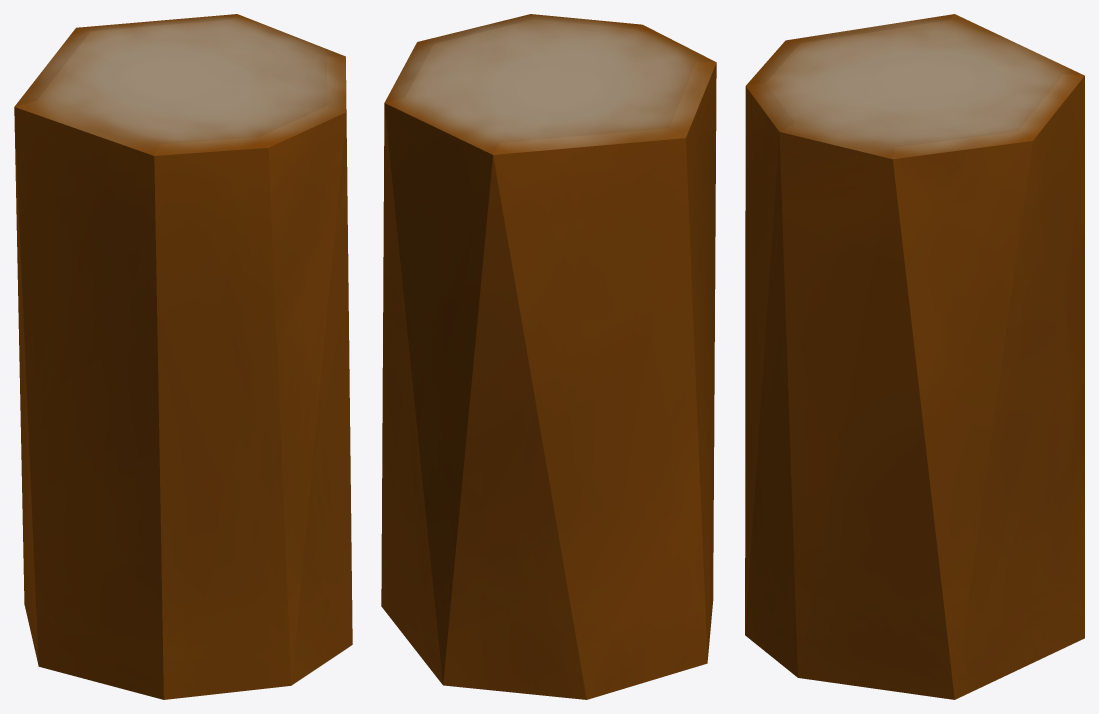
The model's file is Log_01.fbx.
The picture shows the model from 3 angles, left to right: view 1: azimuth 30°, elevation 25°; view 2: azimuth 150°, elevation 25°; view 3: azimuth 270°, elevation 25°; orthographic projection.
Parts seen in each view (by area): view 1: Log_01; view 2: Log_01; view 3: Log_01.
Part boxes in pixels (box(x1,y1,x2,y2)): Log_01: box(14, 14, 352, 699); Log_01: box(381, 14, 716, 699); Log_01: box(745, 14, 1084, 699).
Bounding box in the file's own units: 34.24 × 59.13 × 33.35.
Materials: 1 (1 with a texture image).
